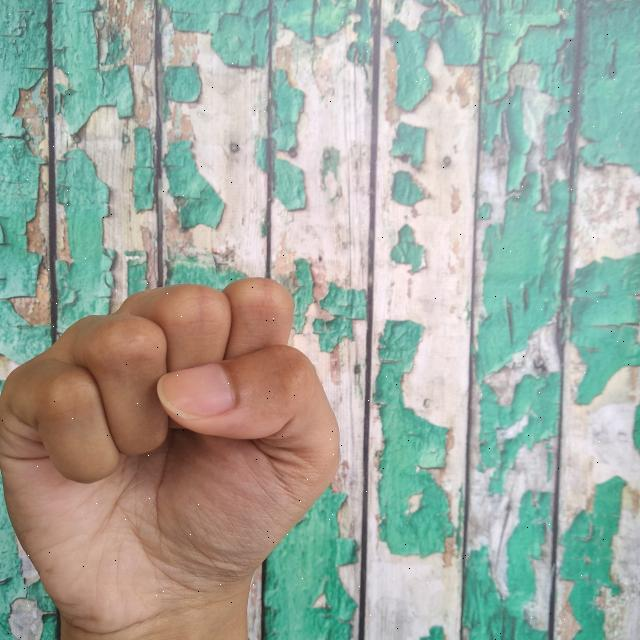S: (0, 269, 346, 640)
